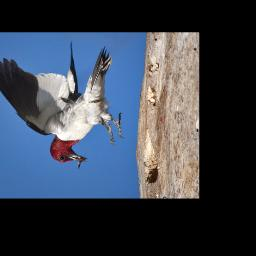Woodpecker: (0, 42, 123, 167)
